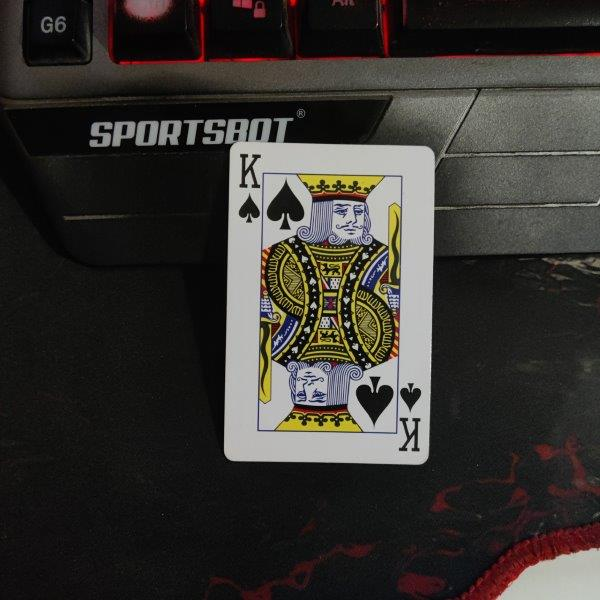King of Spades: (224, 141, 436, 465)
